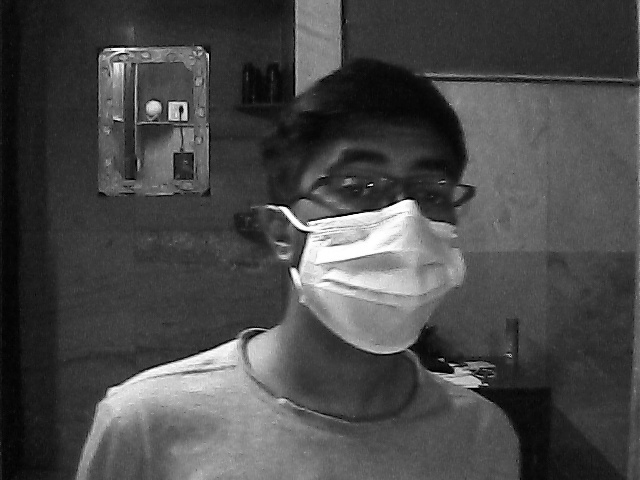mask: (292, 126, 472, 365)
